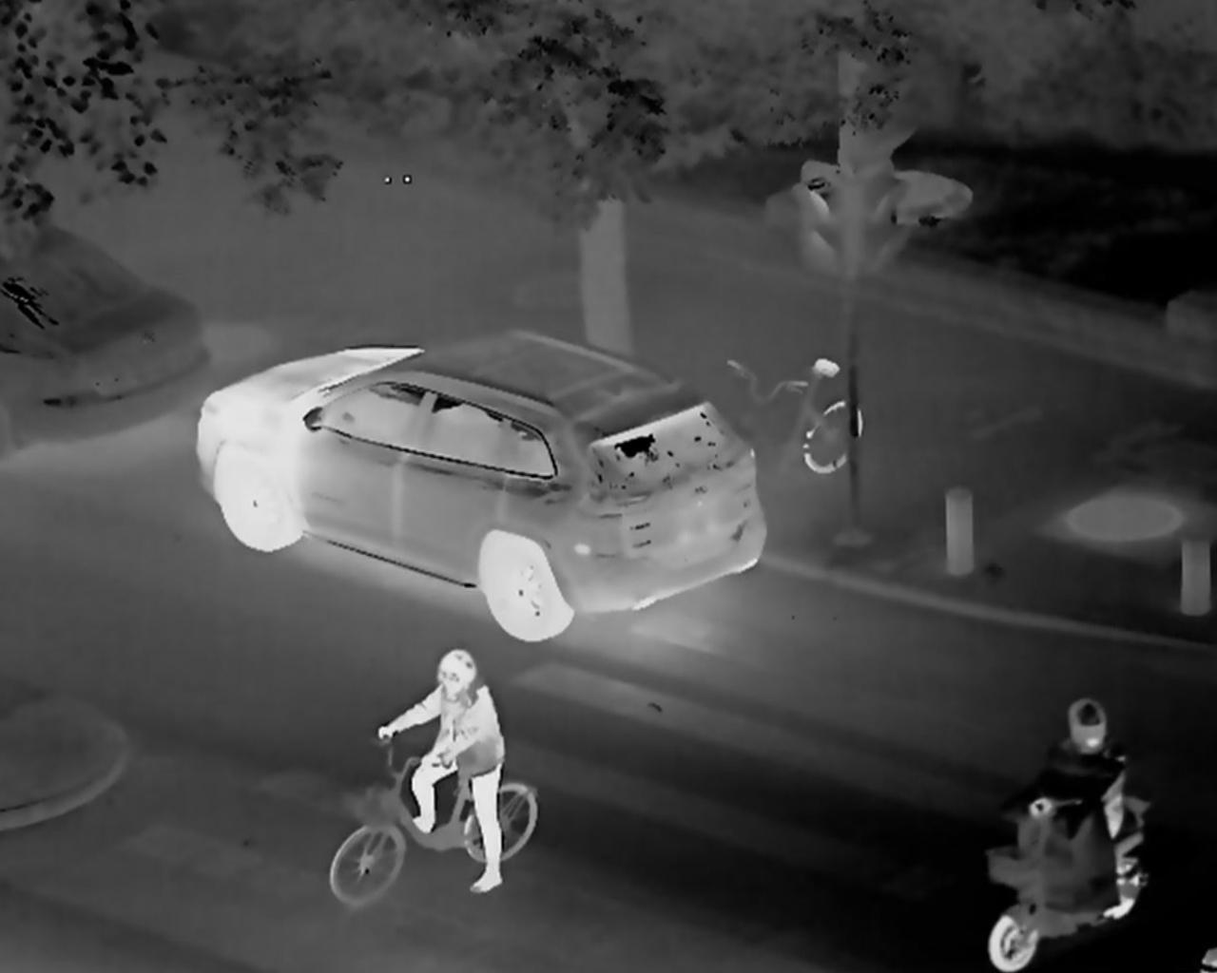person: (380, 649, 504, 897), (1027, 696, 1119, 929)
